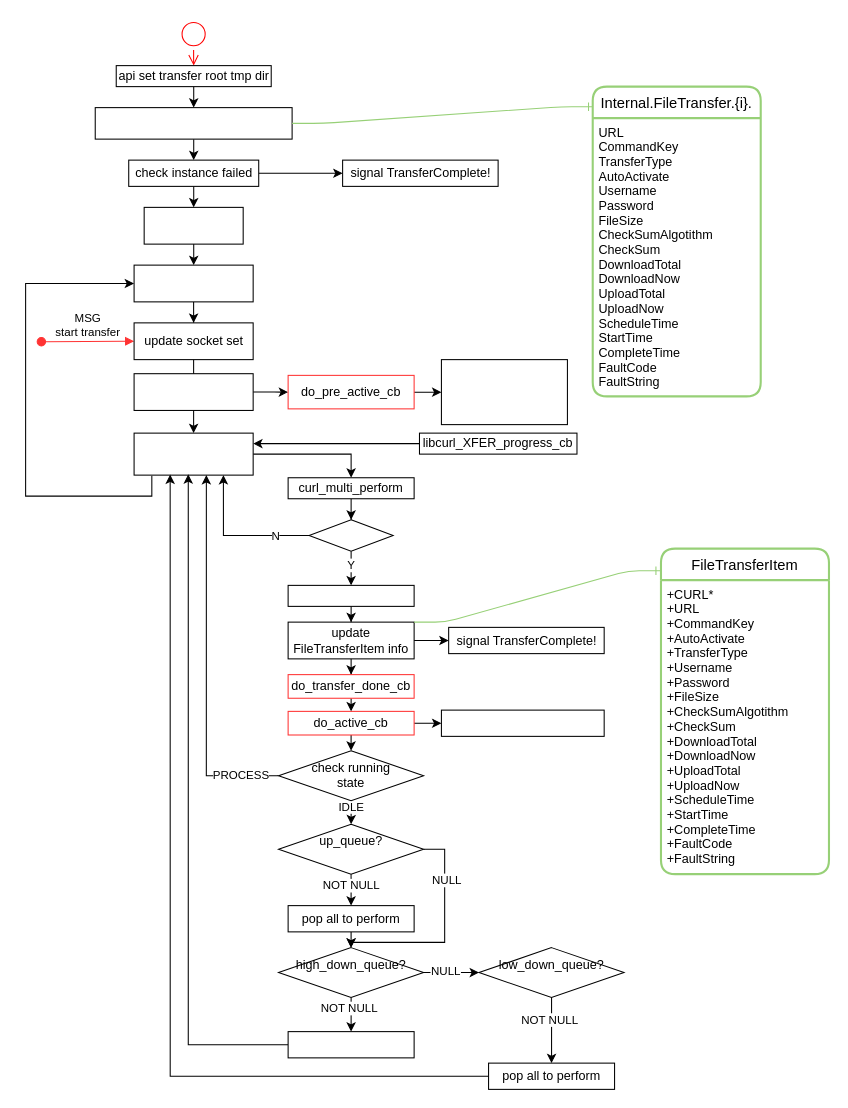
Image size: 848x1108. Some labels were removed from this diagram. The centre of each missing label's shape, as x and y in pixels:
"add transfer task" goes at pixel 193 391.
"any done?" goes at pixel 350 535.
"check task push up_queue high_down_queue low_down_queue" goes at pixel 503 392.
"curl_multi_info_read" goes at pixel 350 595.
"FileTransfer perform" goes at pixel 193 453.
"main loop start" goes at pixel 193 283.
"pop item to perform" goes at pixel 350 1044.
"read DB Interal.FileTransfer.{i}." goes at pixel 193 123.
"rebuild queue" goes at pixel 193 225.
"signal OperationComplete()" goes at pixel 522 722.
